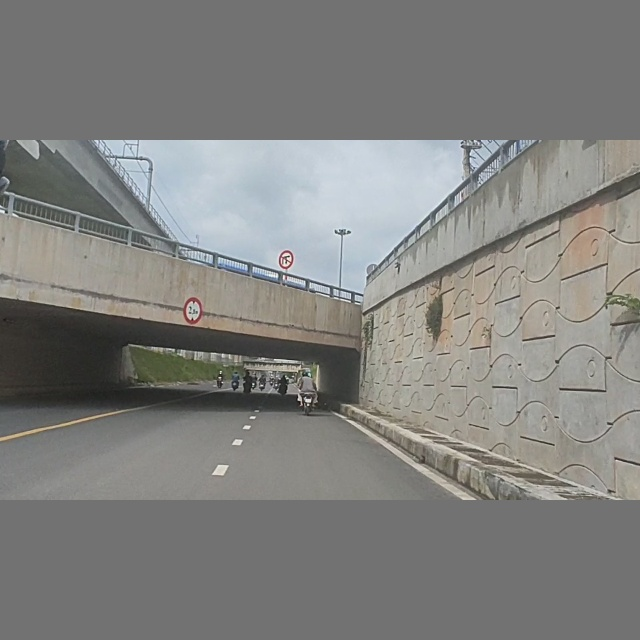P.117*: (183, 296, 203, 324)
P.124d: (279, 249, 294, 269)
